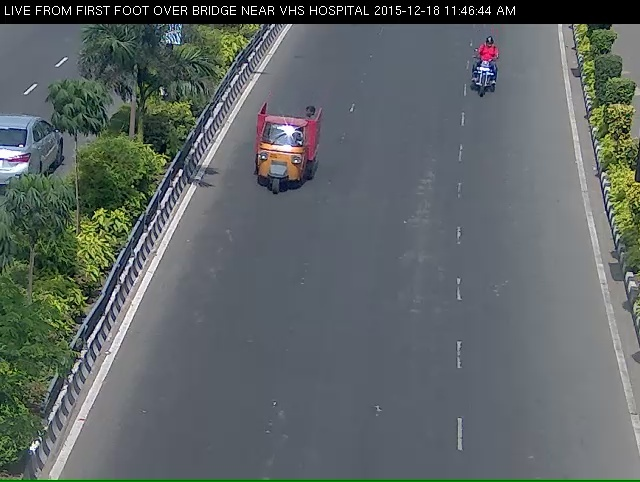Auto: (238, 103, 323, 212)
Person: (466, 43, 508, 116)
